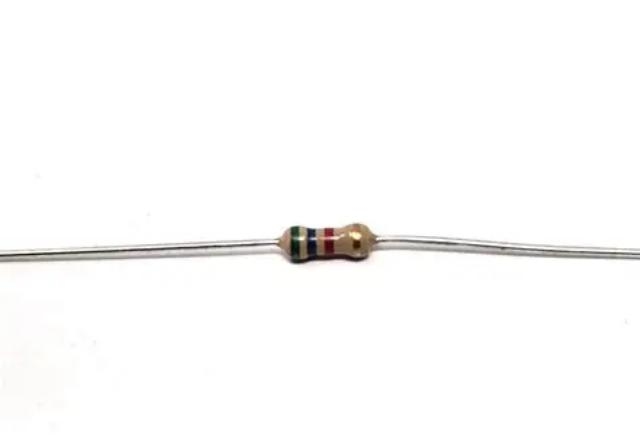black: (308, 227, 317, 261)
gold: (352, 223, 362, 262)
green: (290, 225, 301, 264)
red: (324, 228, 334, 254)
resistor: (263, 212, 394, 272)
